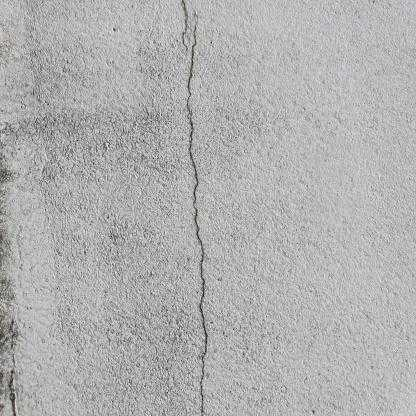crack: (187, 17, 207, 415), (182, 2, 189, 52)
